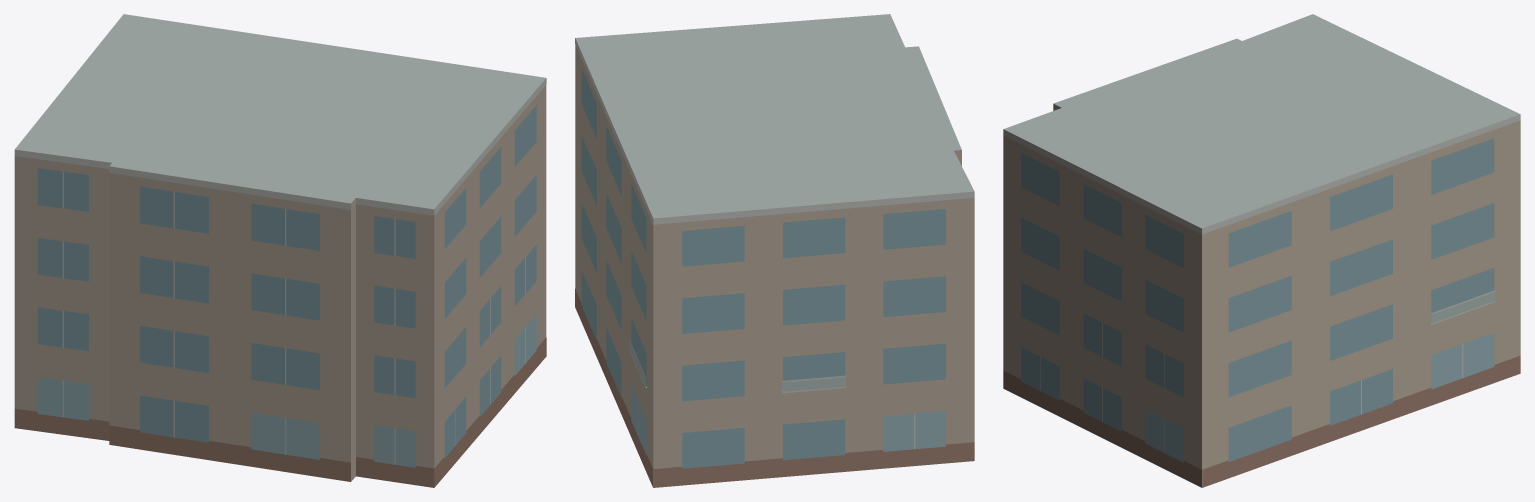
The model's file is survey-upis-32778471.glb.
3 views of the same model, side by side, from view 1: azimuth 30°, elevation 25°; view 2: azimuth 150°, elevation 25°; view 3: azimuth 270°, elevation 25° (orthographic). The views are drawn at different scales.
Visible parts, largest first — view 1: survey-upis-32778471.tmp; view 2: survey-upis-32778471.tmp; view 3: survey-upis-32778471.tmp.
Part boxes in pixels (x1=…): survey-upis-32778471.tmp: x1=14, y1=14, x2=546, y2=487; survey-upis-32778471.tmp: x1=575, y1=14, x2=974, y2=487; survey-upis-32778471.tmp: x1=1003, y1=14, x2=1520, y2=487.
Bounding box in the file's own units: 18.65 × 10.5 × 19.
